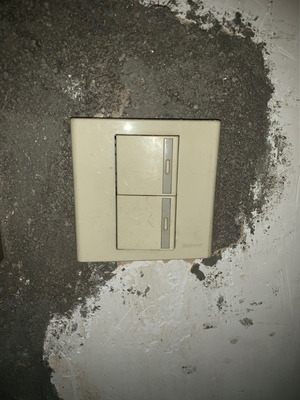switch: (110, 128, 180, 200), (107, 190, 185, 251)
